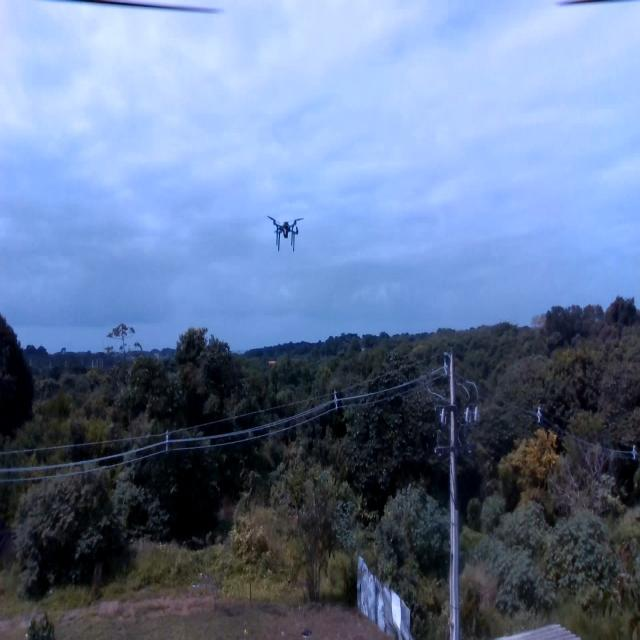-uav-: (266, 200, 303, 265)
